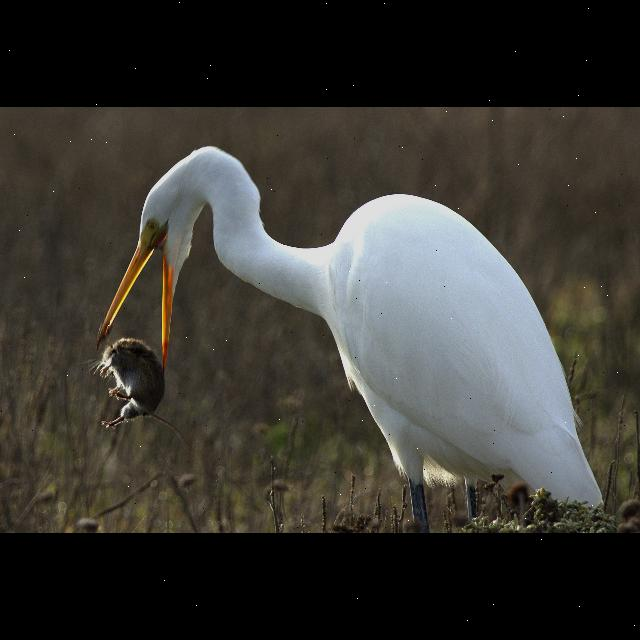egret: (103, 143, 605, 534)
